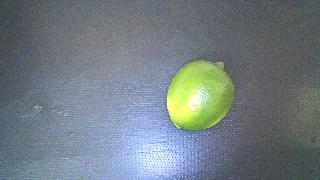EXPORTACION: (167, 60, 234, 130)
